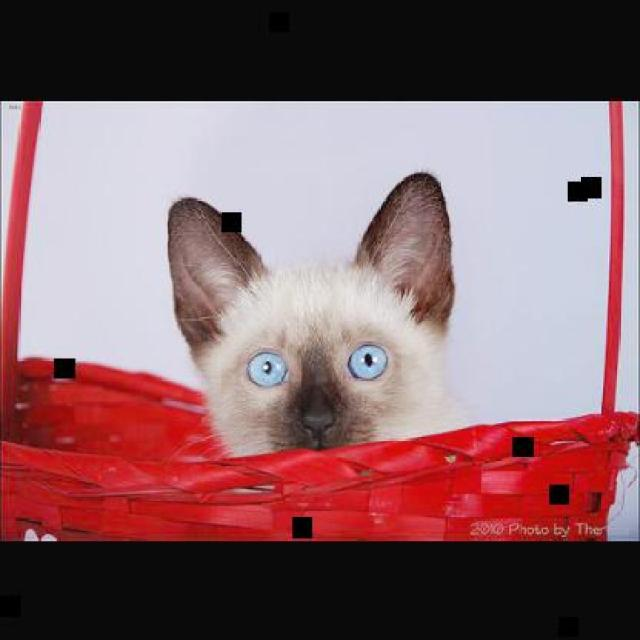unauthorized: (164, 169, 470, 463)
